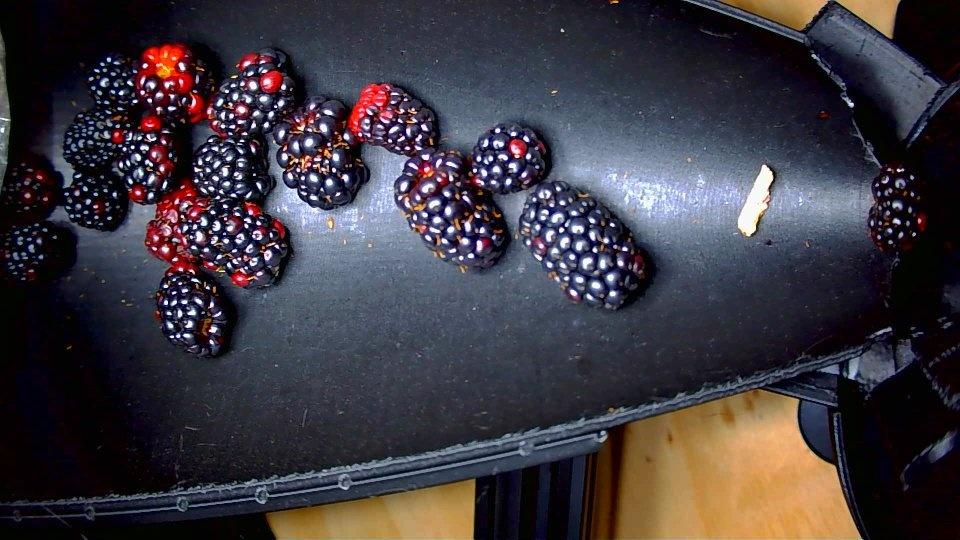berry: (519, 182, 645, 309), (395, 150, 507, 270), (274, 96, 368, 209), (178, 198, 289, 287), (207, 49, 293, 135), (348, 83, 438, 155), (156, 270, 230, 355), (134, 42, 213, 121), (115, 116, 177, 204), (193, 135, 273, 203), (868, 162, 926, 252), (472, 123, 546, 193), (0, 221, 74, 283), (0, 153, 62, 227), (144, 179, 198, 263), (63, 106, 131, 169), (64, 172, 127, 230), (87, 53, 136, 111)
